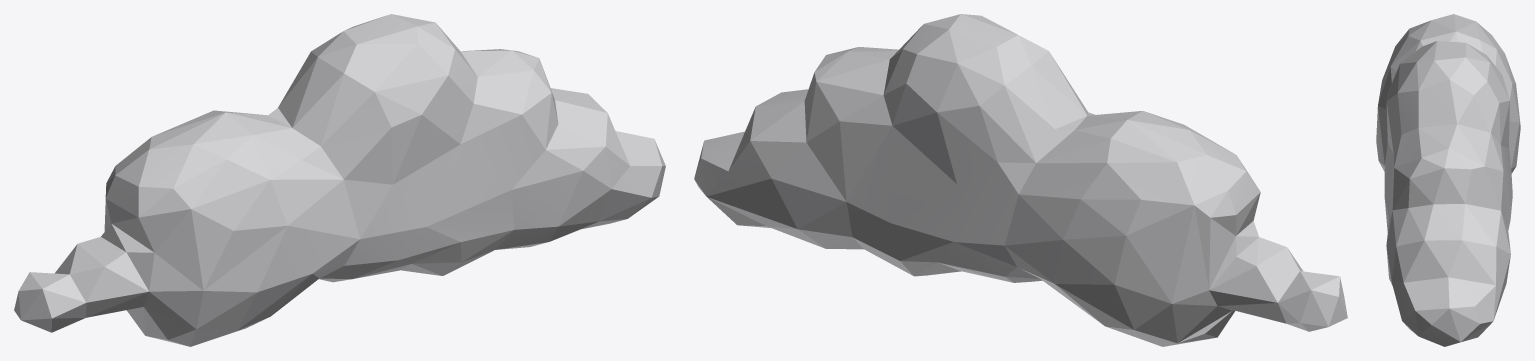
File: big_cloud_8.fbx
3 views of the same model, side by side, from view 1: azimuth 30°, elevation 25°; view 2: azimuth 150°, elevation 25°; view 3: azimuth 270°, elevation 25° (orthographic). The views are drawn at different scales.
Visible parts, largest first — view 1: cloud_48; view 2: cloud_48; view 3: cloud_48.
Part boxes in pixels (<box>): cloud_48: <box>14,14,665,346</box>; cloud_48: <box>694,14,1347,346</box>; cloud_48: <box>1376,14,1520,346</box>.
Bounding box in the file's own units: 1174 × 461 × 278.
